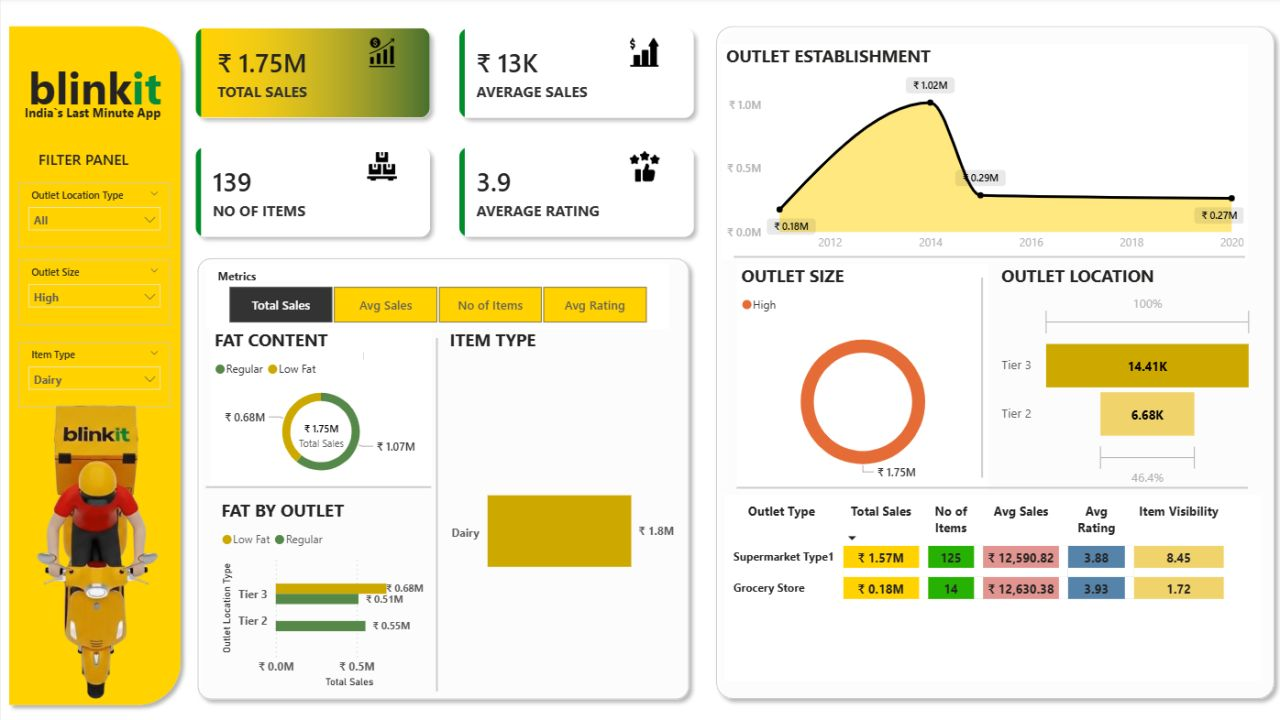

The page's visual inventory and layout, read from the dashboard file:
{"tool":"powerbi","page":{"name":"Page 1","canvas":[1400,800],"ordinal":0},"visuals":[{"type":"shape","box":[0,23.2,205.4,760.2],"z":0},{"type":"textbox","box":[20.7,59.9,163.3,101.3],"z":1000},{"type":"textbox","box":[270.8,711,186,72.3],"z":2000},{"type":"textbox","box":[20.7,111.6,186,57.9],"z":3000},{"type":"cardVisual","fields":{"Data":["BlinkIT Grocery Data.Total Sales","BlinkIT Grocery Data.Avg Sales","BlinkIT Grocery Data.No of Items","BlinkIT Grocery Data.Avg Rating"]},"box":[183.8,5,602.8,286.5],"z":4000},{"type":"image","box":[390.9,43.1,51.3,33.1],"z":5000},{"type":"image","box":[390.9,168.9,51.3,33.1],"z":6000},{"type":"image","box":[677.4,43.1,51,33.1],"z":7000},{"type":"image","box":[677.4,168.9,51.3,33.1],"z":8000},{"type":"shape","box":[205.4,276.6,554.8,500.2],"z":9000},{"type":"donutChart","title":"FAT CONTENT","fields":{"Y":["BlinkIT Grocery Data.Total Sales"],"Category":["BlinkIT Grocery Data.Item Fat Content"]},"box":[228.6,362.7,241.8,172.2],"z":10000},{"type":"slicer","fields":{"Values":["Metrics.Metrics"]},"box":[223.6,291.5,505.1,71.2],"z":11000},{"type":"cardVisual","fields":{"Data":["BlinkIT Grocery Data.Total Sales"]},"box":[268.8,431,162.2,96.1],"z":12000},{"type":"clusteredBarChart","title":"FAT BY OUTLET","fields":{"Y":["BlinkIT Grocery Data.Total Sales"],"Category":["BlinkIT Grocery Data.Outlet Location Type"],"Series":["BlinkIT Grocery Data.Item Fat Content"]},"box":[235.2,548.2,250.1,210.3],"z":13000},{"type":"shape","box":[223.8,528.7,246.3,13.5],"z":14000},{"type":"shape","box":[470.1,372.5,12,386],"z":15000},{"type":"barChart","title":"ITEM TYPE ","fields":{"Y":["BlinkIT Grocery Data.Total Sales"],"Category":["BlinkIT Grocery Data.Item Type"]},"box":[485.3,362.7,255,414],"z":16000},{"type":"shape","box":[771.8,23.2,627.7,753.6],"z":17000},{"type":"lineChart","title":"OUTLET ESTABLISHMENT","fields":{"Category":["BlinkIT Grocery Data.Outlet Establishment Year"],"Y":["BlinkIT Grocery Data.Total Sales"]},"box":[786.7,51.3,574.7,235.2],"z":18000},{"type":"donutChart","title":"OUTLET SIZE","fields":{"Y":["BlinkIT Grocery Data.Total Sales"],"Category":["BlinkIT Grocery Data.Outlet Size"]},"box":[803.2,291.5,274.9,248.4],"z":19000},{"type":"shape","box":[1064.9,306.4,13.2,218.6],"z":20000},{"type":"funnel","title":"OUTLET LOCATION","fields":{"Category":["BlinkIT Grocery Data.Outlet Location Type"],"Y":["Sum(BlinkIT Grocery Data.Sales)"]},"box":[1088.1,291.5,284.9,250.1],"z":21000},{"type":"shape","box":[803.2,528.3,558.1,14.9],"z":22000},{"type":"pivotTable","fields":{"Rows":["BlinkIT Grocery Data.Outlet Type"],"Values":["BlinkIT Grocery Data.Total Sales","BlinkIT Grocery Data.No of Items","BlinkIT Grocery Data.Avg Sales","BlinkIT Grocery Data.Avg Rating","Sum(BlinkIT Grocery Data.Item Visibility)"]},"box":[790,543.2,586.3,203.7],"z":23000},{"type":"shape","box":[799.9,276.6,558.1,14.9],"z":24000},{"type":"slicer","fields":{"Values":["BlinkIT Grocery Data.Outlet Location Type"]},"box":[19.9,202.1,165.6,71.2],"z":25000},{"type":"slicer","fields":{"Values":["BlinkIT Grocery Data.Outlet Size"]},"box":[19.9,286.5,165.6,71.2],"z":26000},{"type":"slicer","fields":{"Values":["BlinkIT Grocery Data.Item Type"]},"box":[19.9,377.6,165.6,71.2],"z":27000},{"type":"textbox","box":[390.5,383,10.5,18],"z":28000},{"type":"textbox","box":[36.4,160.6,132.5,46.4],"z":29000},{"type":"image","box":[0,383,205.8,399.5],"z":30000}]}

Visuals, with their boxes in screenshot pixels (x1, y1, x2, y2), scaled from the page's 1400x800 canvas onto the 1280x720 screenshot:
shape: x1=0 y1=21 x2=188 y2=705
textbox: x1=19 y1=54 x2=168 y2=145
textbox: x1=248 y1=640 x2=418 y2=705
textbox: x1=19 y1=100 x2=189 y2=153
cardVisual - BlinkIT Grocery Data.Total Sales x BlinkIT Grocery Data.Avg Sales: x1=168 y1=4 x2=719 y2=262
image: x1=357 y1=39 x2=404 y2=69
image: x1=357 y1=152 x2=404 y2=182
image: x1=619 y1=39 x2=666 y2=69
image: x1=619 y1=152 x2=666 y2=182
shape: x1=188 y1=249 x2=695 y2=699
"FAT CONTENT" donutChart: x1=209 y1=326 x2=430 y2=481
slicer - Metrics.Metrics: x1=204 y1=262 x2=666 y2=326
cardVisual - BlinkIT Grocery Data.Total Sales: x1=246 y1=388 x2=394 y2=474
"FAT BY OUTLET" clusteredBarChart: x1=215 y1=493 x2=444 y2=683
shape: x1=205 y1=476 x2=430 y2=488
shape: x1=430 y1=335 x2=441 y2=683
"ITEM TYPE " barChart: x1=444 y1=326 x2=677 y2=699
shape: x1=706 y1=21 x2=1279 y2=699
"OUTLET ESTABLISHMENT" lineChart: x1=719 y1=46 x2=1245 y2=258
"OUTLET SIZE" donutChart: x1=734 y1=262 x2=986 y2=486
shape: x1=974 y1=276 x2=986 y2=472
"OUTLET LOCATION" funnel: x1=995 y1=262 x2=1255 y2=487
shape: x1=734 y1=475 x2=1245 y2=489
pivotTable - BlinkIT Grocery Data.Outlet Type x BlinkIT Grocery Data.Total Sales: x1=722 y1=489 x2=1258 y2=672
shape: x1=731 y1=249 x2=1242 y2=262
slicer - BlinkIT Grocery Data.Outlet Location Type: x1=18 y1=182 x2=170 y2=246
slicer - BlinkIT Grocery Data.Outlet Size: x1=18 y1=258 x2=170 y2=322
slicer - BlinkIT Grocery Data.Item Type: x1=18 y1=340 x2=170 y2=404
textbox: x1=357 y1=345 x2=367 y2=361
textbox: x1=33 y1=145 x2=154 y2=186
image: x1=0 y1=345 x2=188 y2=704
